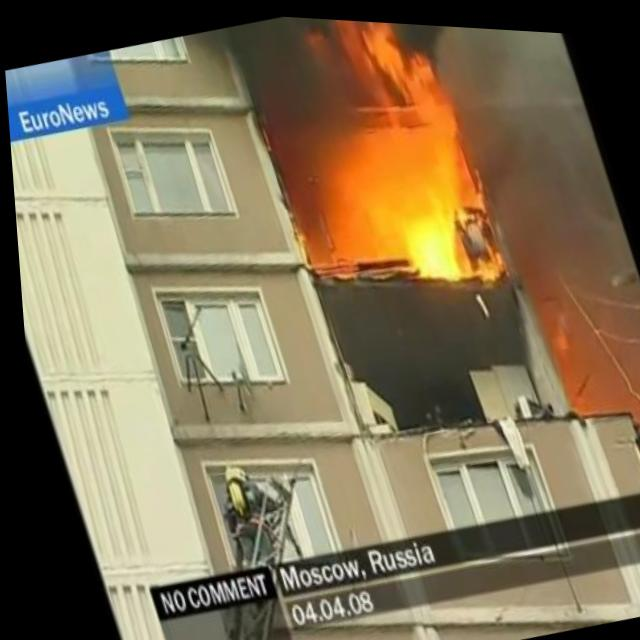fire: (309, 14, 518, 297)
